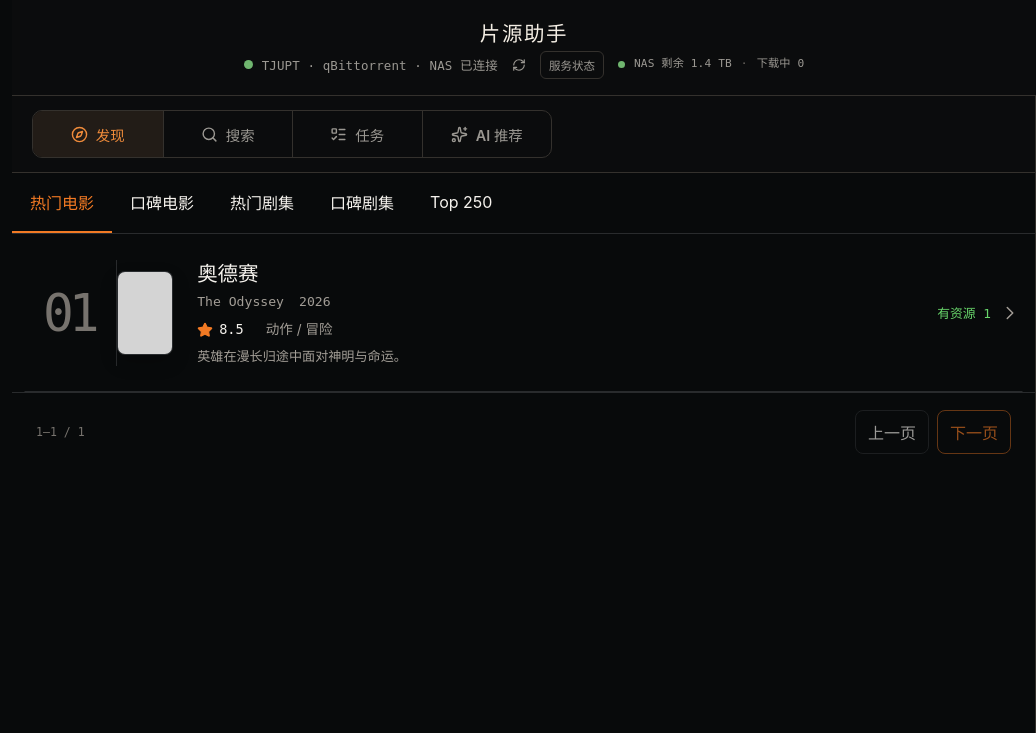
Test: 片源助手客户端 › opens with a discovery list and reuses the existing release preview flow
The image size is (1036, 733).
Expected: the heading "奥德赛" is shown, [197,260,259,288]
Expected: the text "有资源 1" is shown, [937,305,991,322]
Click the button with aria-label "奥德赛，第 1 名" at (524, 313), box [24,234,1023,392]
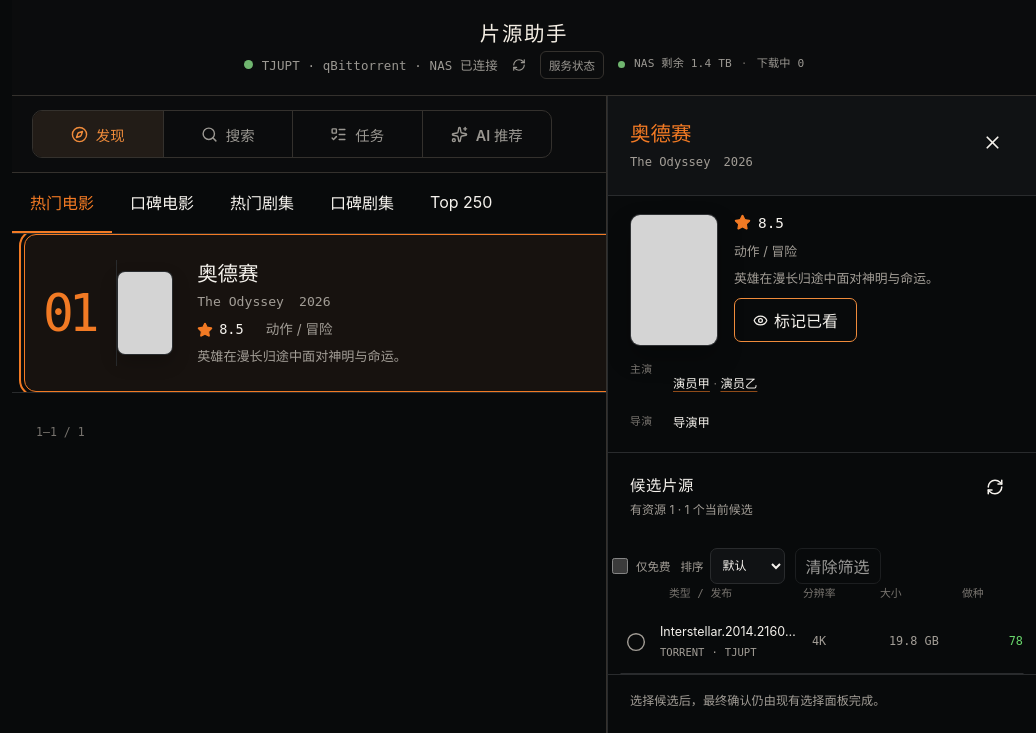
Now the button "演员甲" is shown, box [673,362,710,406]
Now the button "演员乙" is shown, box [720,362,757,406]
Now the text "Interstellar.2014.2160p.BluRay.x265.10bit.AAC5.1-TJUPT" is shown, box [660,624,803,641]
Click the radio button labelled "Interstellar.2014" at (822, 642), box [620,609,1024,674]
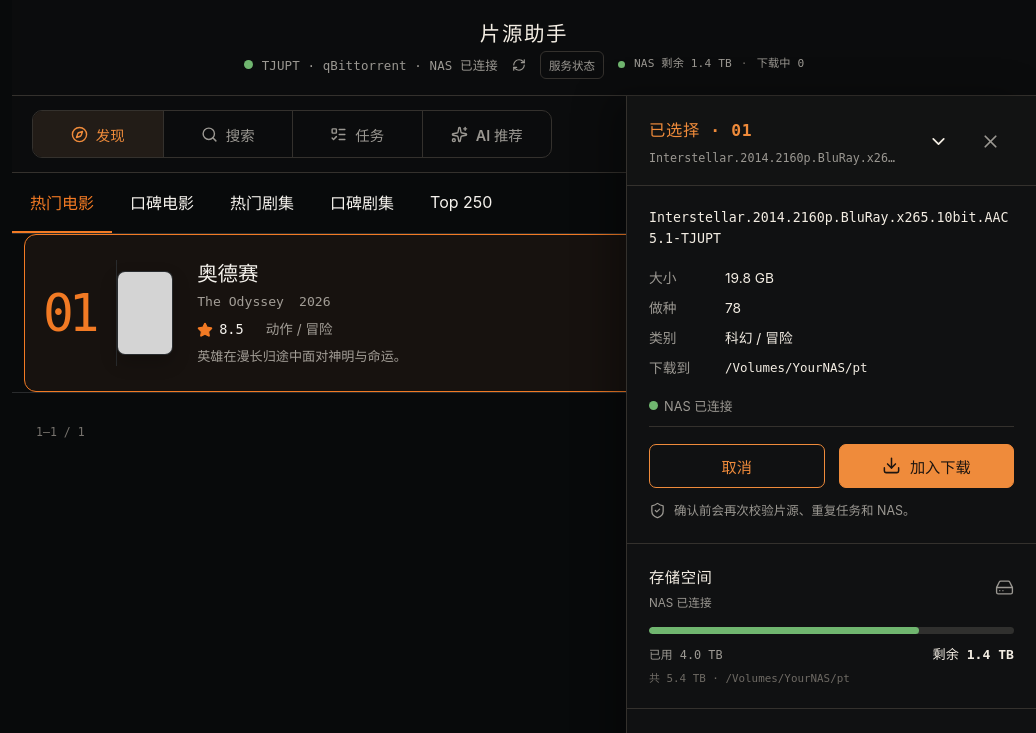
Now the heading "已选择 · 01" is shown, box [649,121,752,140]
